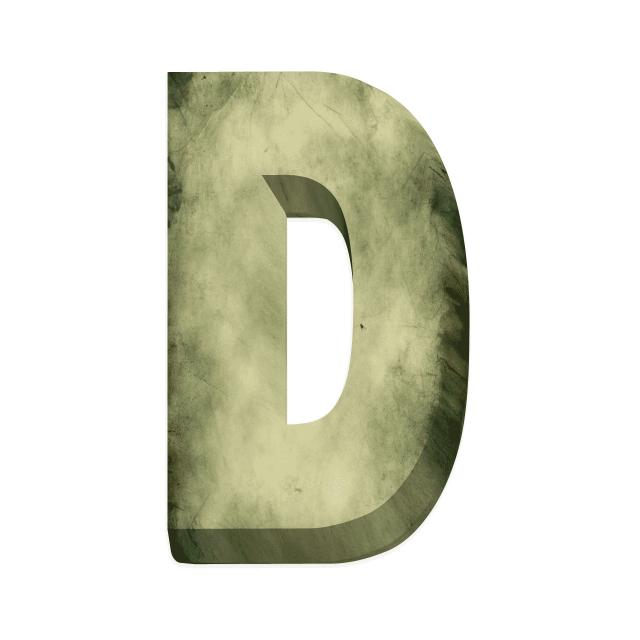D: (131, 55, 485, 581)
